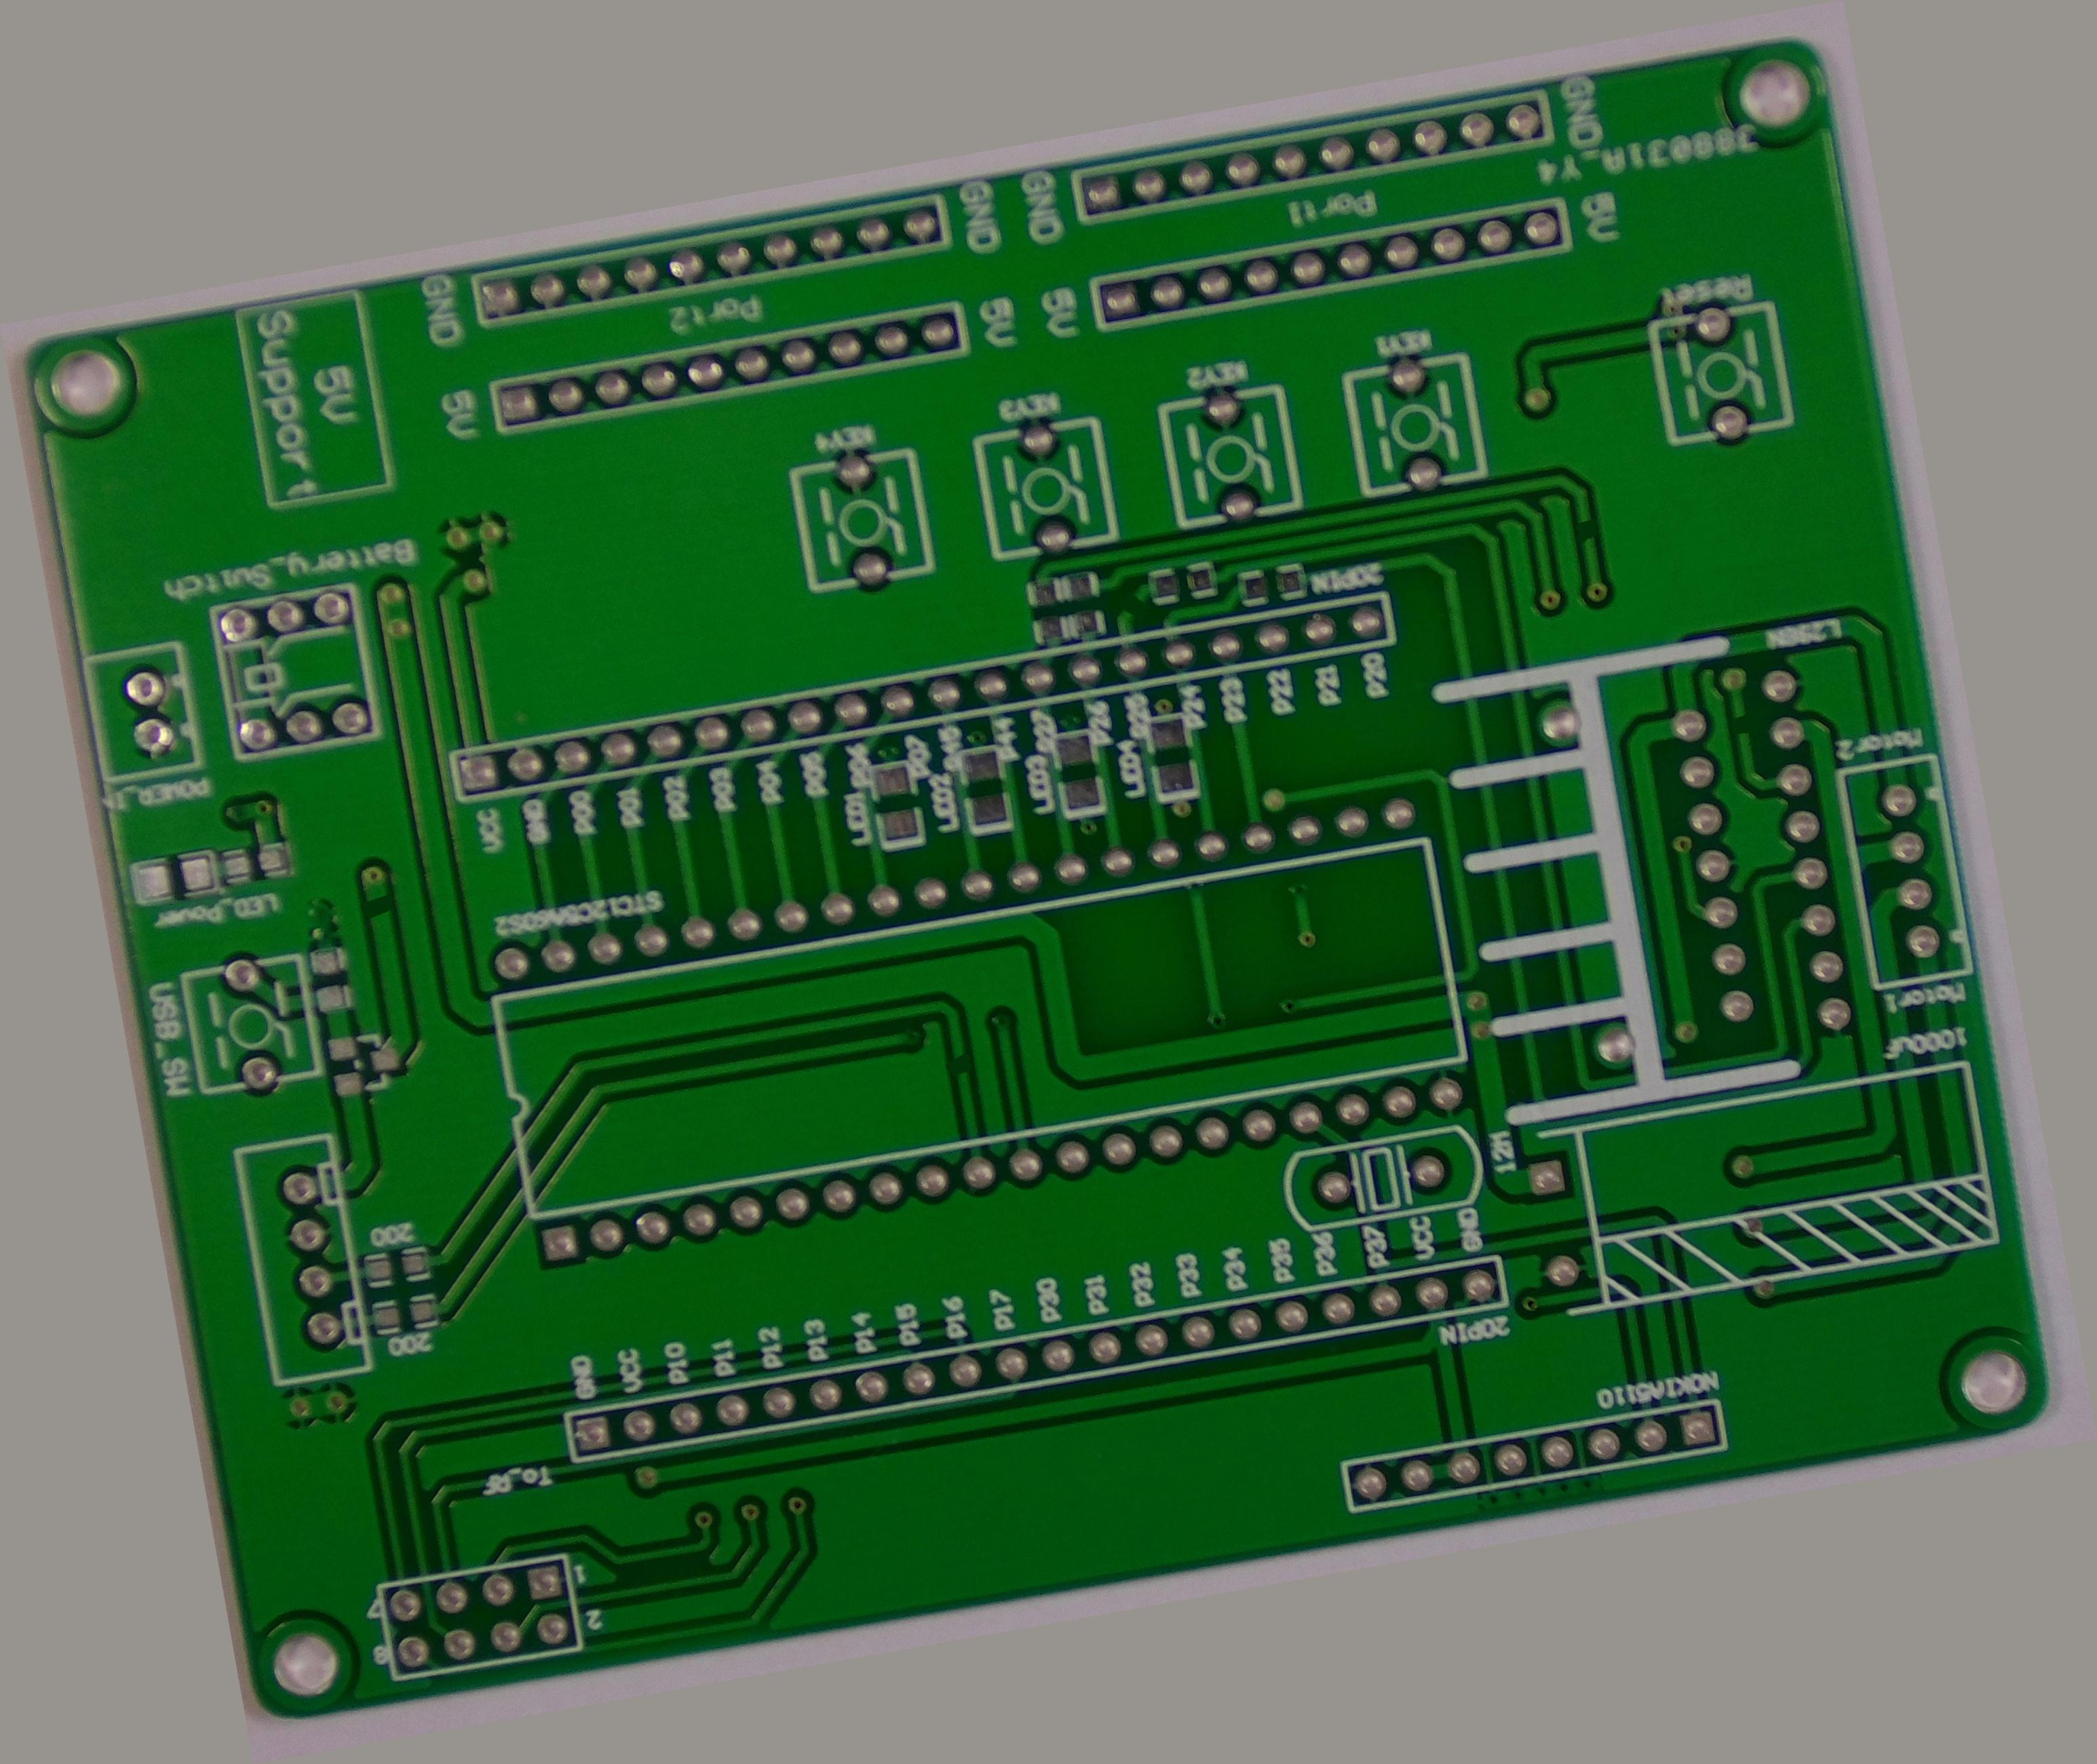open_circuit: (287, 749, 322, 793), (1173, 551, 1213, 588), (1831, 817, 1855, 863), (1698, 556, 1721, 598), (905, 1061, 928, 1101)
